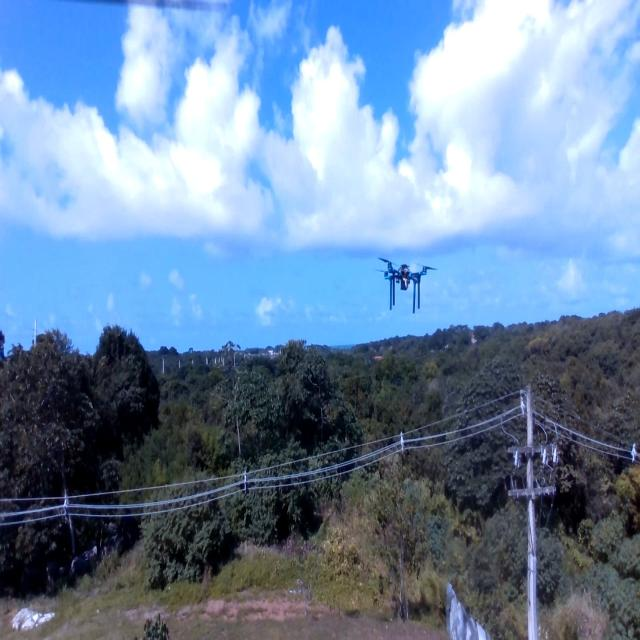-uav-: (373, 246, 435, 323)
